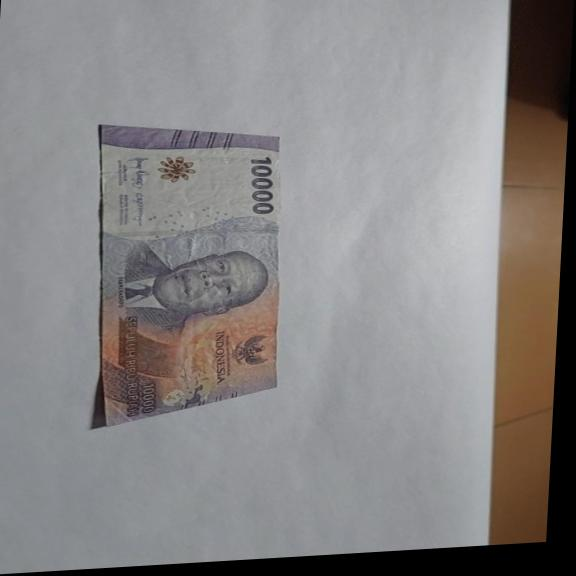Kertas: (81, 113, 291, 430), (245, 154, 279, 216)
